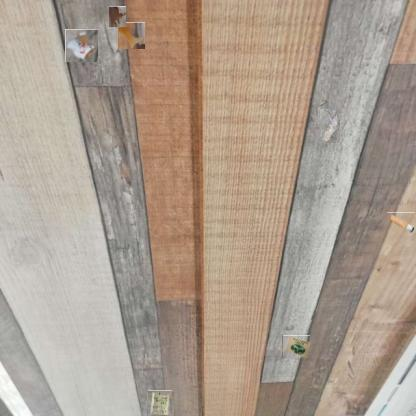dirty: (65, 29, 98, 62), (320, 109, 340, 143), (147, 391, 173, 416), (387, 212, 415, 235), (282, 335, 310, 358)
liquid: (117, 22, 145, 49), (108, 6, 126, 27)
